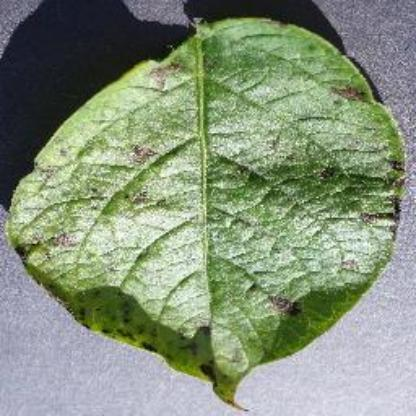Early-Blight: (7, 13, 410, 404)
